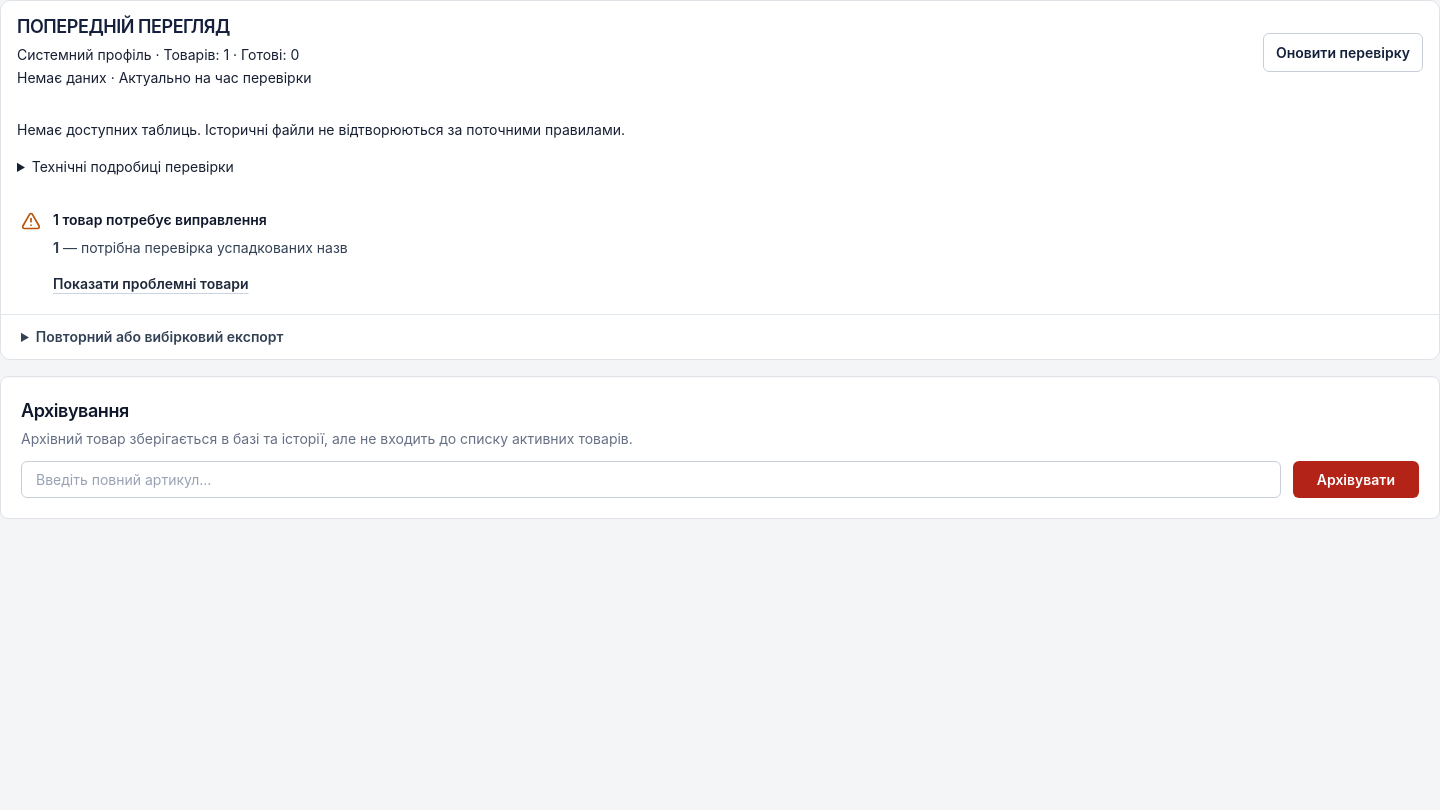
Test case: phase2 inherited-review readiness offers the existing name workflow
The width and height of the screenshot is (1440, 810).
Click the button "Показати проблемні товари".
click(151, 284)  # box [53,274,248,294]
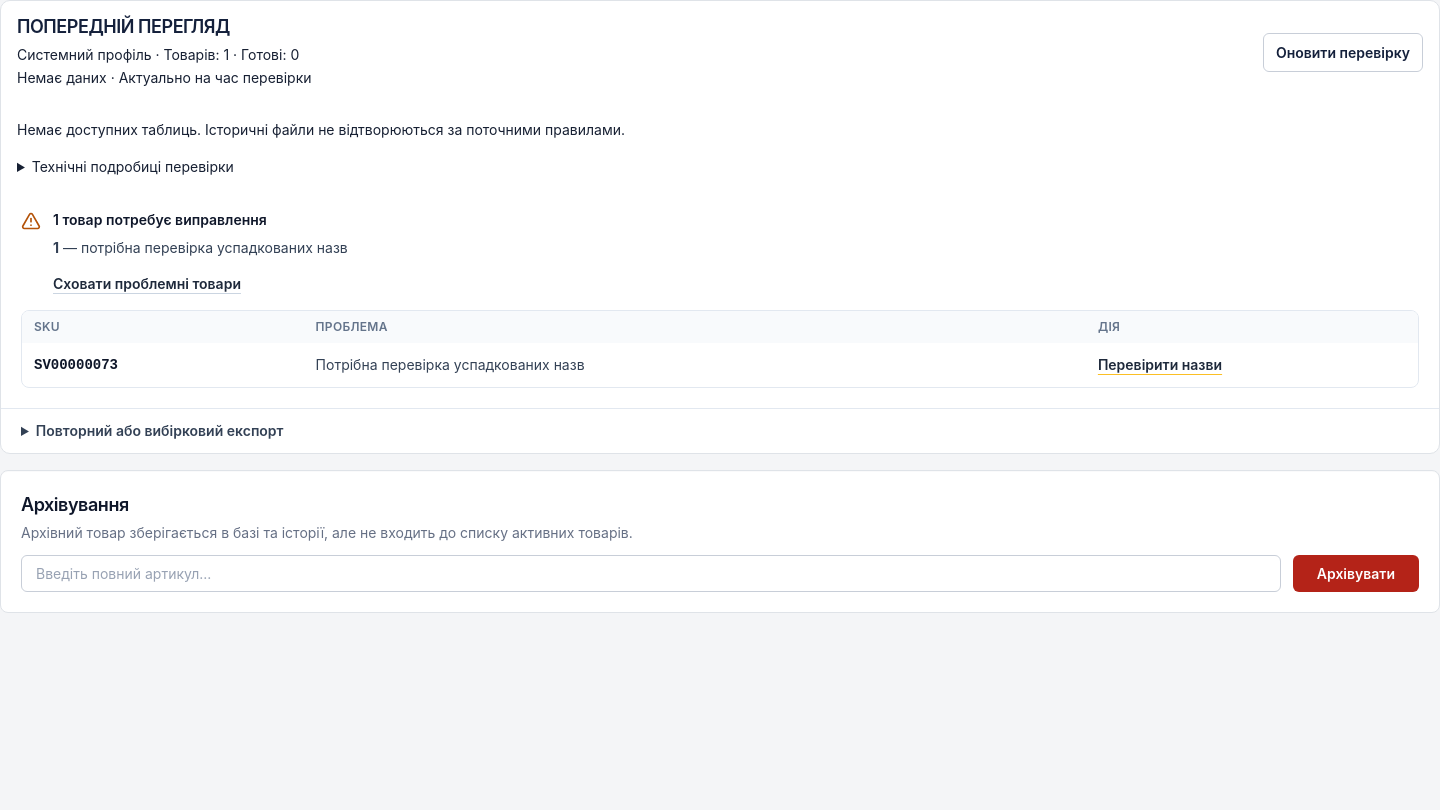
Result: the button "Перевірити назви" is shown at [1098,355,1222,375]
